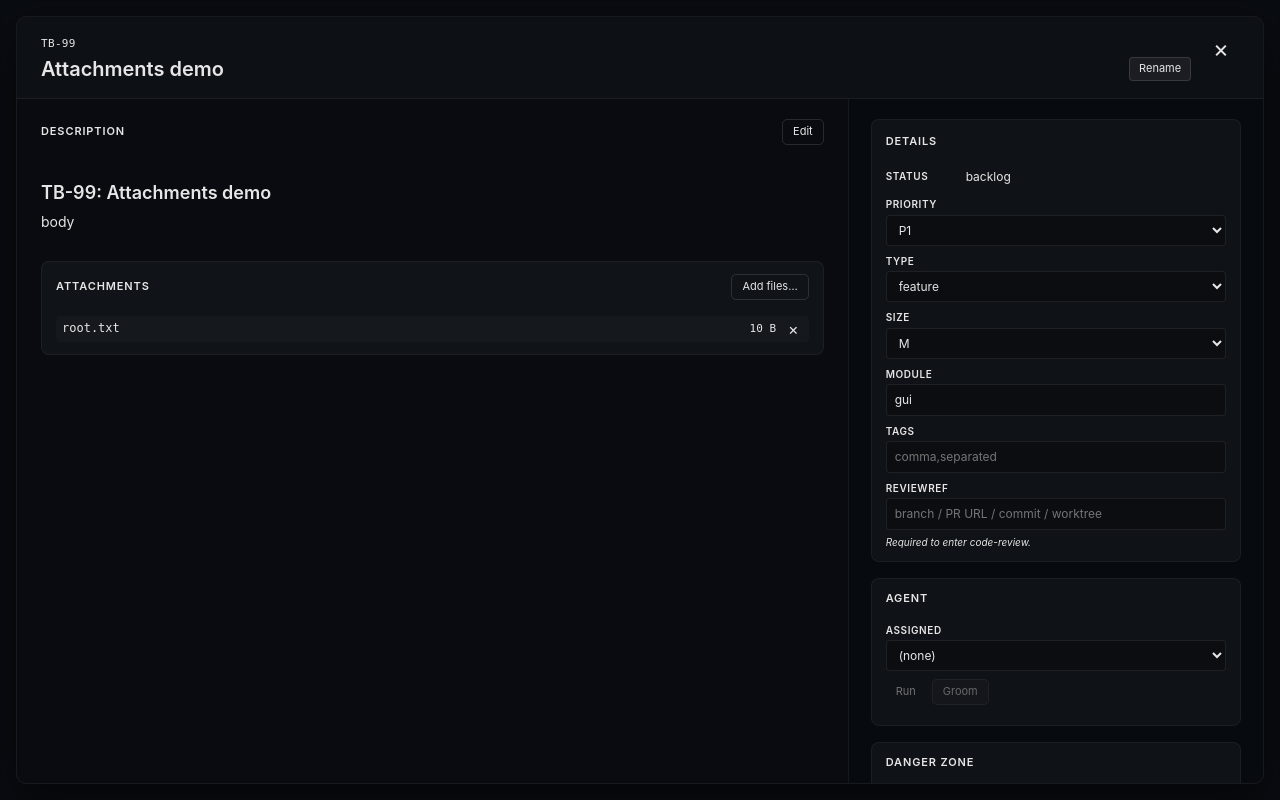
Scenario: TaskDrawer attachment remove confirmation (TB-153) › waits for watcher event before refreshing after remove
Click the button with class "att-remove": (793, 329) [784, 321, 803, 337]
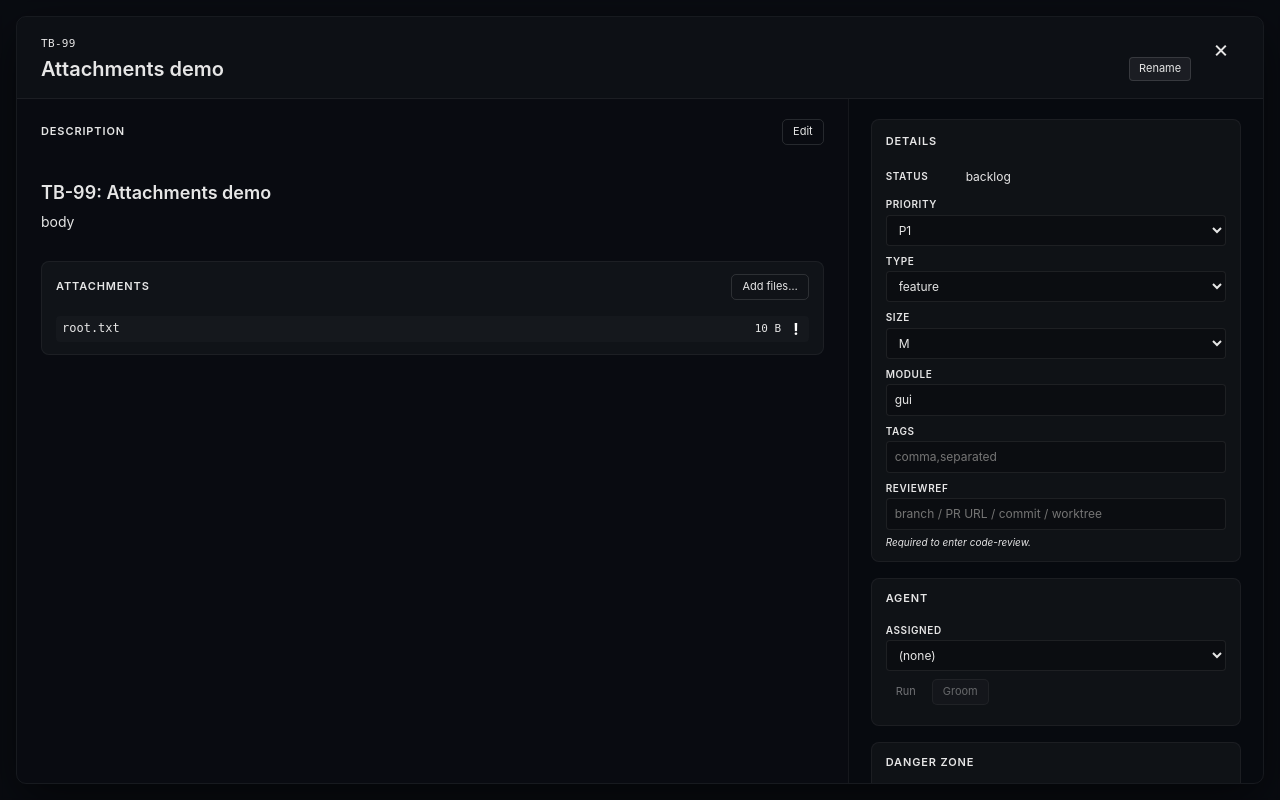
Click the button with class "att-remove": (796, 329) [789, 321, 803, 337]
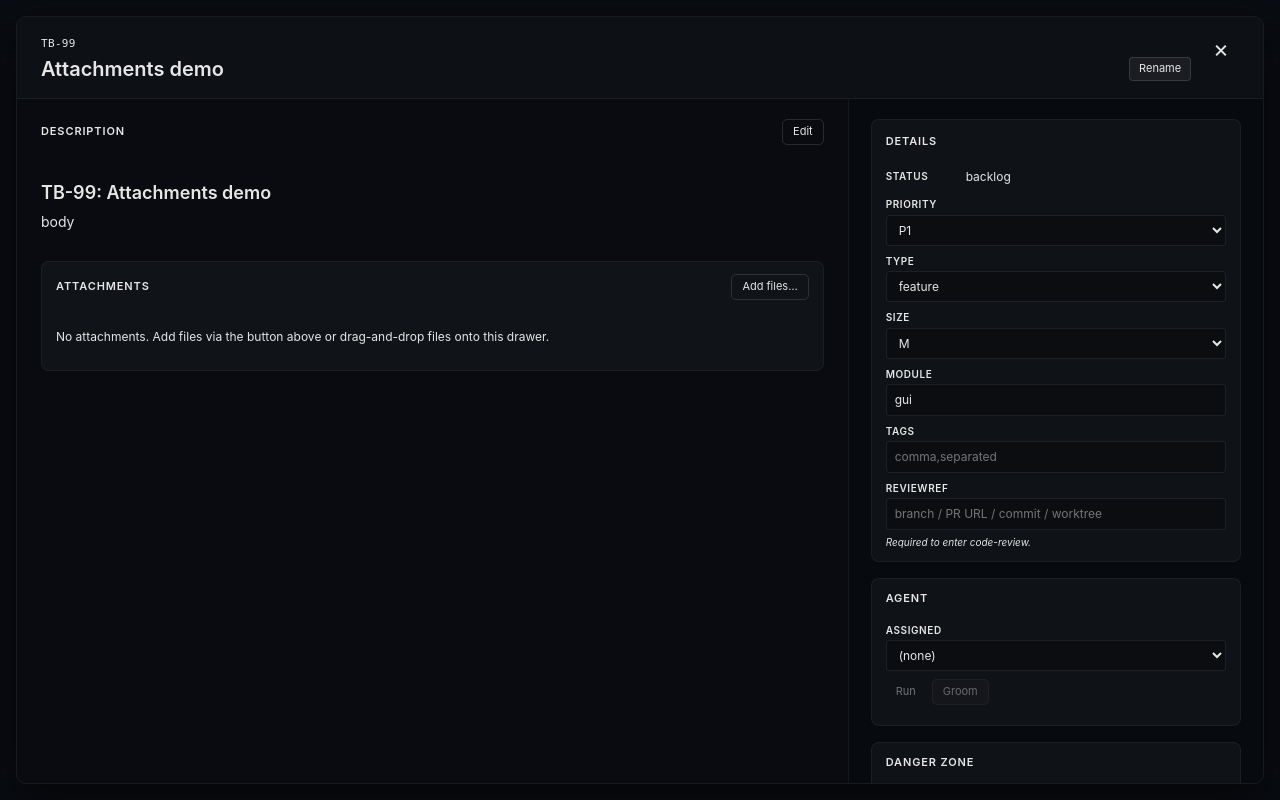
Check: the button with class "att-name" is gone
